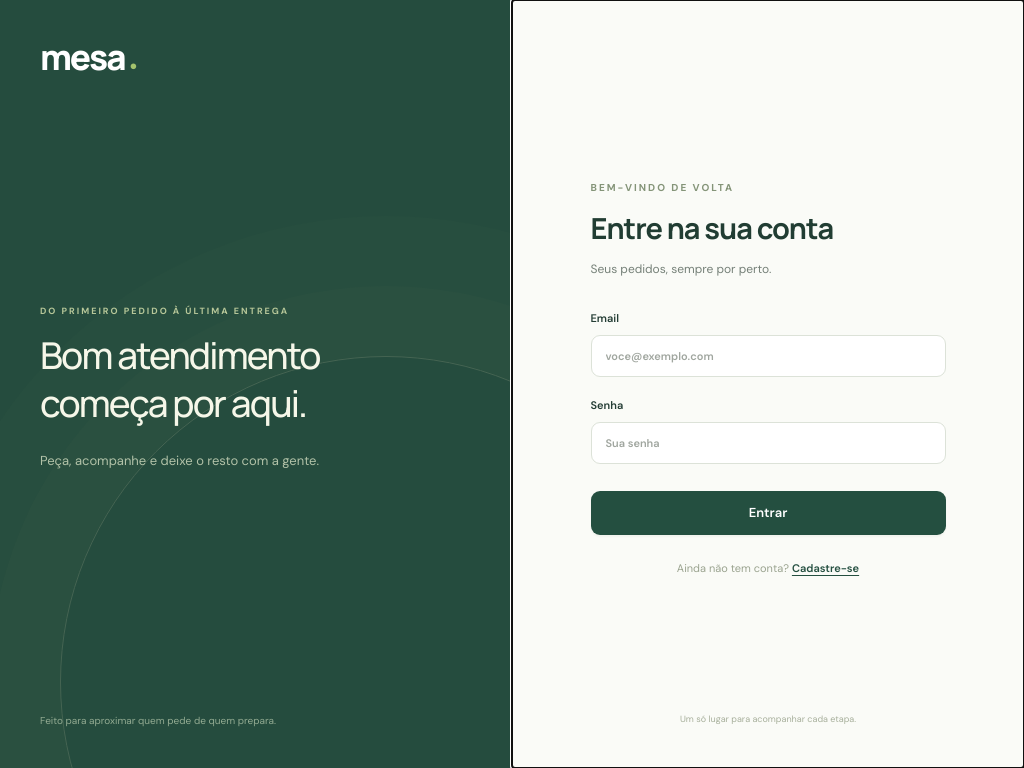
Test case: distinguishes empty state and failed refresh, allowing recovery
Type "ana@example.com" into the field labelled "Email" at (768, 356), box [590,335,946,377]
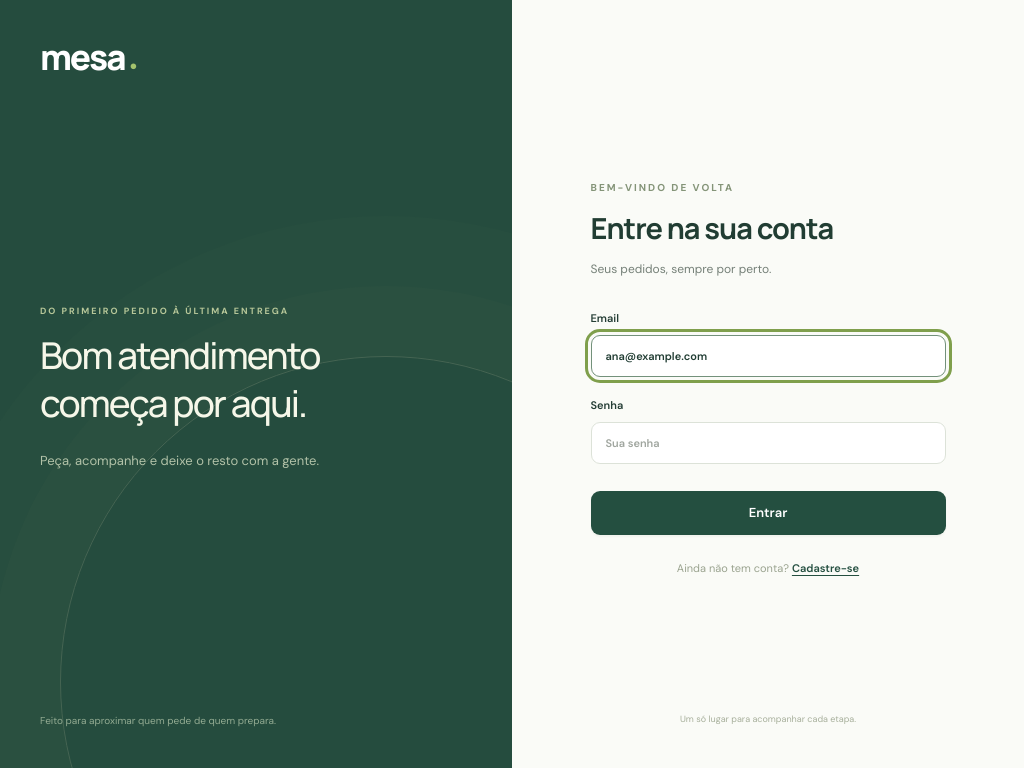
Type "senha" into the password field labelled "Senha" at (768, 443), box [590,422,946,464]
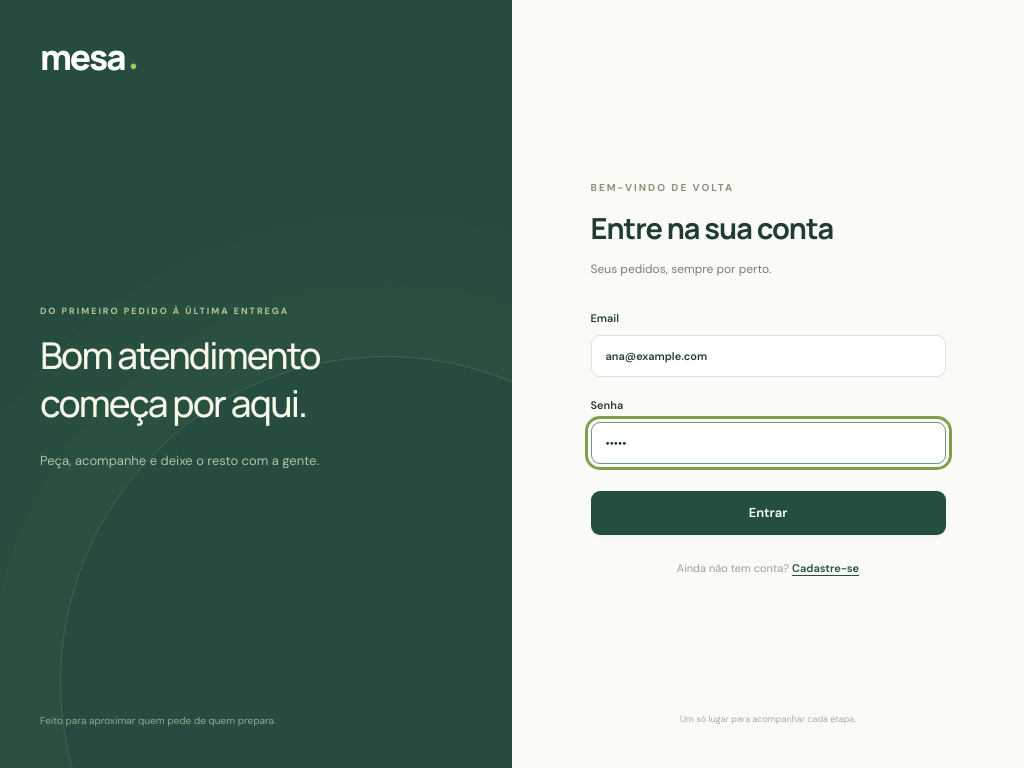
Click the button "Entrar" at (768, 513), box [590,491,946,535]
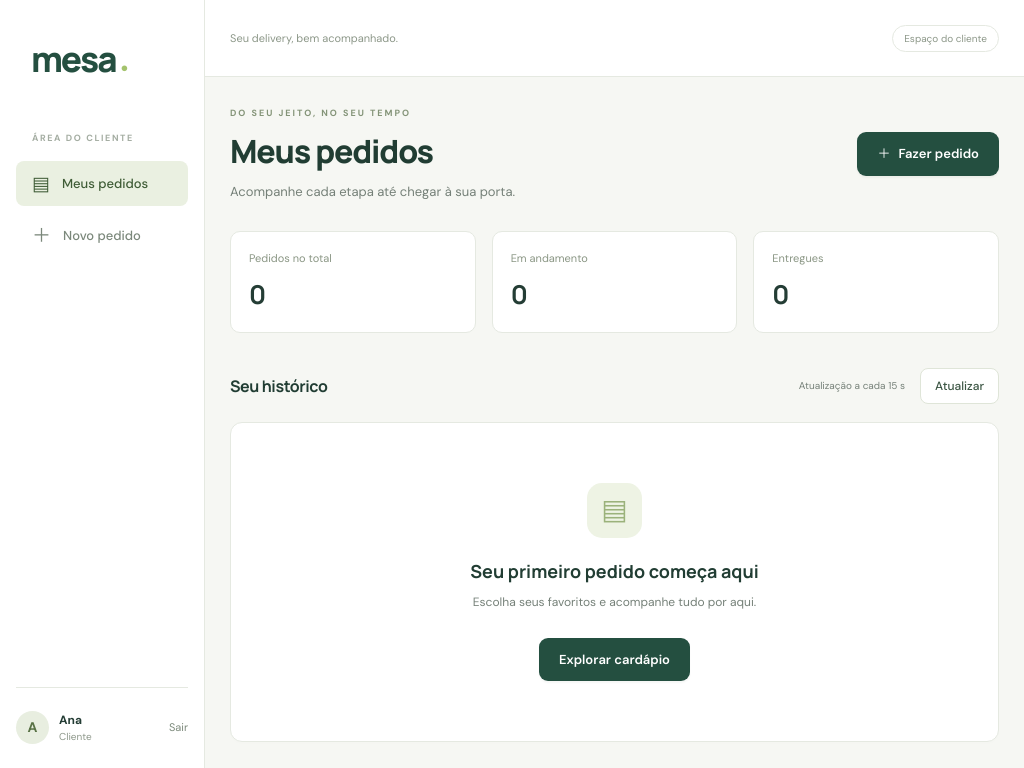
Result: the heading "Seu primeiro pedido começa aqui" is shown at [470,559,759,583]
Click the button "Atualizar" at (960, 386), box [920,368,999,404]
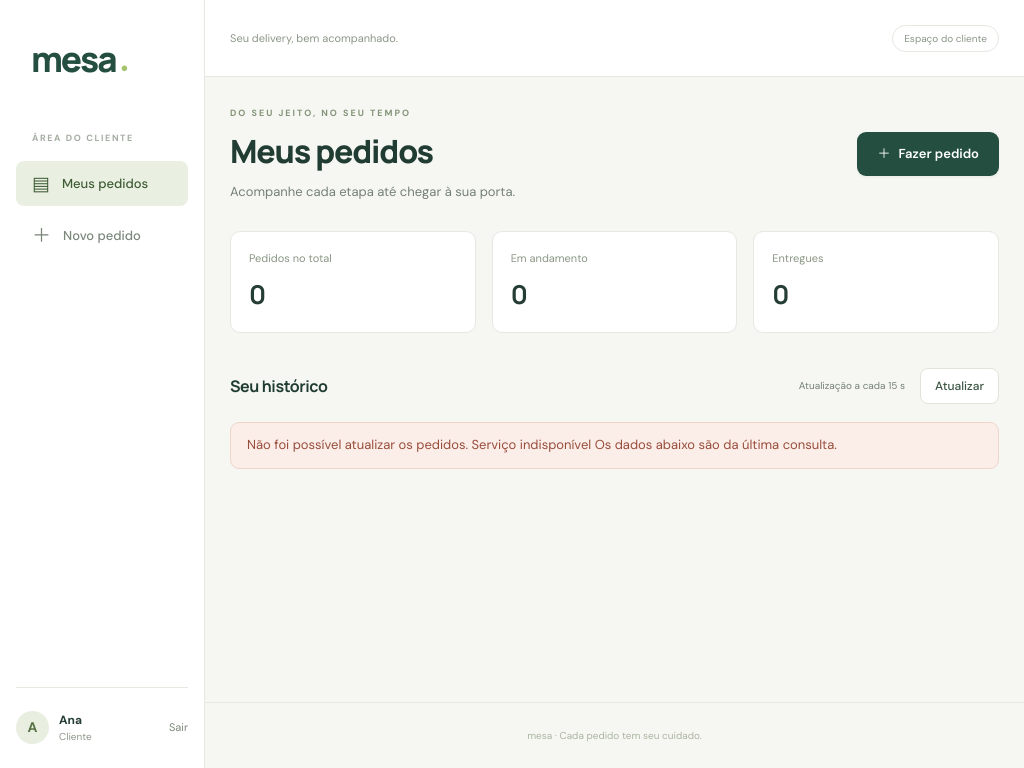
Result: the message shows "Serviço indisponível" at [472,436,591,453]
Click the button "Atualizar" at (960, 386), box [920,368,999,404]
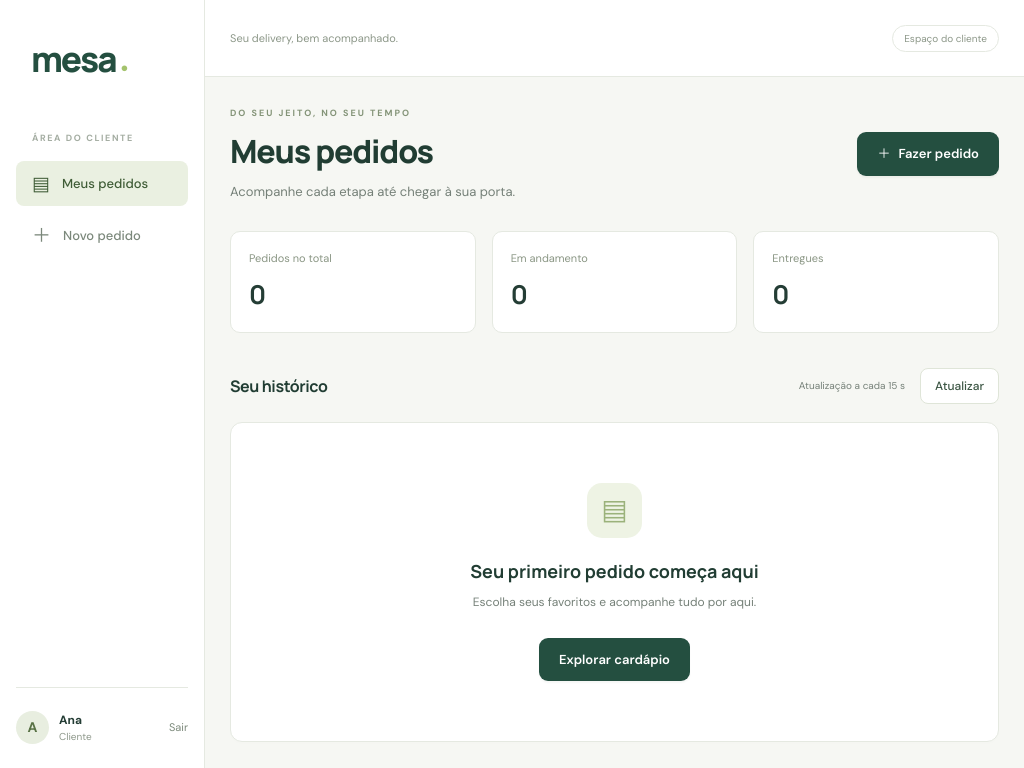
Result: the message "Não foi possível atualizar os pedidos. Serviço indisponível Os dados abaixo são" is gone
